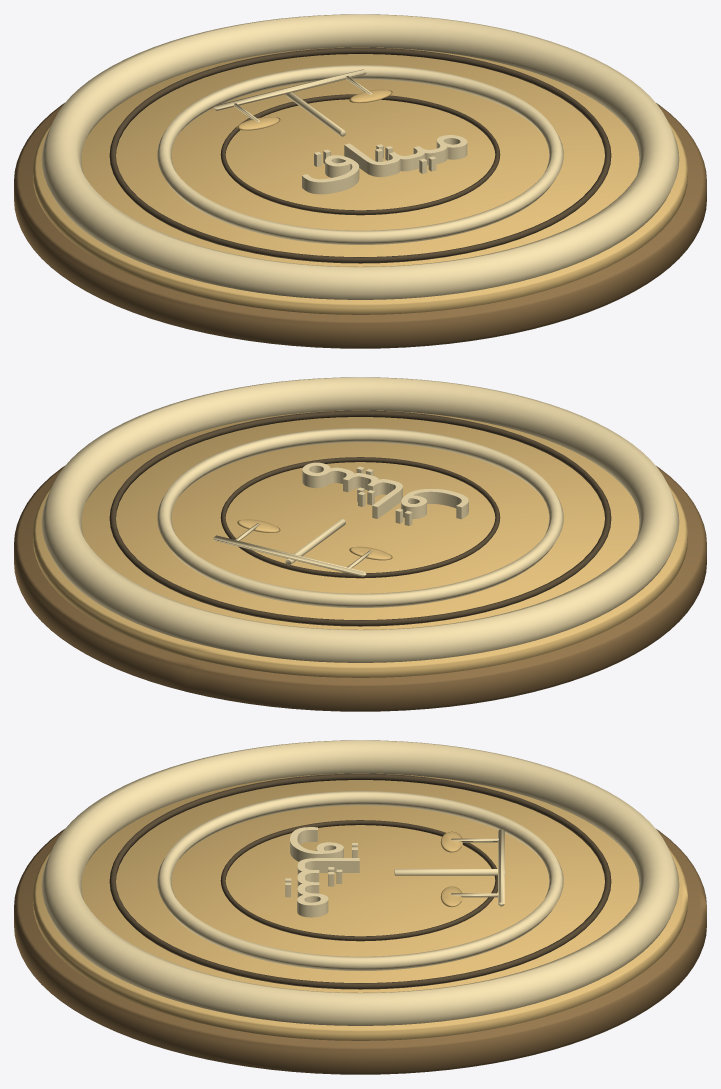
File: seal.raw.glb
The picture shows the model from 3 angles, top to bottom: view 1: azimuth 30°, elevation 25°; view 2: azimuth 150°, elevation 25°; view 3: azimuth 270°, elevation 25°; orthographic projection.
Visible parts, largest first — view 1: MITHAQ_Seal_Base, MITHAQ_Seal_Outer_Rim, MITHAQ_Seal_Back_Plate, MITHAQ_Seal_Inner_Rim, MITHAQ_Seal_Shadow_Groove_Outer, MITHAQ_Seal_Arabic_Text, MITHAQ_Seal_Shadow_Groove_Inner, MITHAQ_Seal_Legal_Motif; view 2: MITHAQ_Seal_Base, MITHAQ_Seal_Outer_Rim, MITHAQ_Seal_Back_Plate, MITHAQ_Seal_Inner_Rim, MITHAQ_Seal_Shadow_Groove_Outer, MITHAQ_Seal_Arabic_Text, MITHAQ_Seal_Shadow_Groove_Inner, MITHAQ_Seal_Legal_Motif; view 3: MITHAQ_Seal_Base, MITHAQ_Seal_Outer_Rim, MITHAQ_Seal_Back_Plate, MITHAQ_Seal_Inner_Rim, MITHAQ_Seal_Shadow_Groove_Outer, MITHAQ_Seal_Arabic_Text, MITHAQ_Seal_Shadow_Groove_Inner, MITHAQ_Seal_Legal_Motif.
Part boxes in pixels (<box>): MITHAQ_Seal_Base: <box>33,47,687,314</box>; MITHAQ_Seal_Outer_Rim: <box>41,14,679,299</box>; MITHAQ_Seal_Back_Plate: <box>14,103,706,348</box>; MITHAQ_Seal_Inner_Rim: <box>157,65,563,244</box>; MITHAQ_Seal_Shadow_Groove_Outer: <box>109,47,611,263</box>; MITHAQ_Seal_Arabic_Text: <box>302,135,467,194</box>; MITHAQ_Seal_Shadow_Groove_Inner: <box>220,94,500,215</box>; MITHAQ_Seal_Legal_Motif: <box>213,69,392,136</box>; MITHAQ_Seal_Base: <box>33,410,687,677</box>; MITHAQ_Seal_Outer_Rim: <box>41,377,679,662</box>; MITHAQ_Seal_Back_Plate: <box>14,466,706,711</box>; MITHAQ_Seal_Inner_Rim: <box>157,428,563,607</box>; MITHAQ_Seal_Shadow_Groove_Outer: <box>109,410,611,626</box>; MITHAQ_Seal_Arabic_Text: <box>302,462,468,525</box>; MITHAQ_Seal_Shadow_Groove_Inner: <box>220,457,500,578</box>; MITHAQ_Seal_Legal_Motif: <box>213,519,392,576</box>; MITHAQ_Seal_Base: <box>33,773,687,1040</box>; MITHAQ_Seal_Outer_Rim: <box>41,740,679,1025</box>; MITHAQ_Seal_Back_Plate: <box>14,829,706,1074</box>; MITHAQ_Seal_Inner_Rim: <box>157,791,563,970</box>; MITHAQ_Seal_Shadow_Groove_Outer: <box>109,773,611,989</box>; MITHAQ_Seal_Arabic_Text: <box>285,827,359,917</box>; MITHAQ_Seal_Shadow_Groove_Inner: <box>220,820,497,941</box>; MITHAQ_Seal_Legal_Motif: <box>394,829,505,907</box>.
Bounding box in the file's own units: 3.64 × 0.375 × 3.64.
